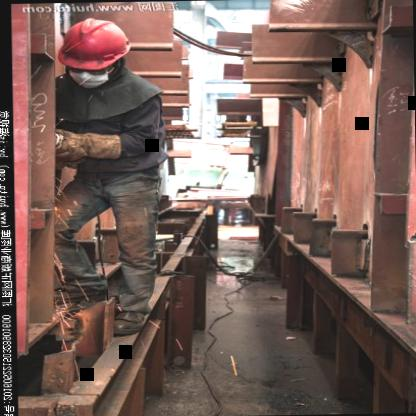helmet: (53, 16, 138, 91)
